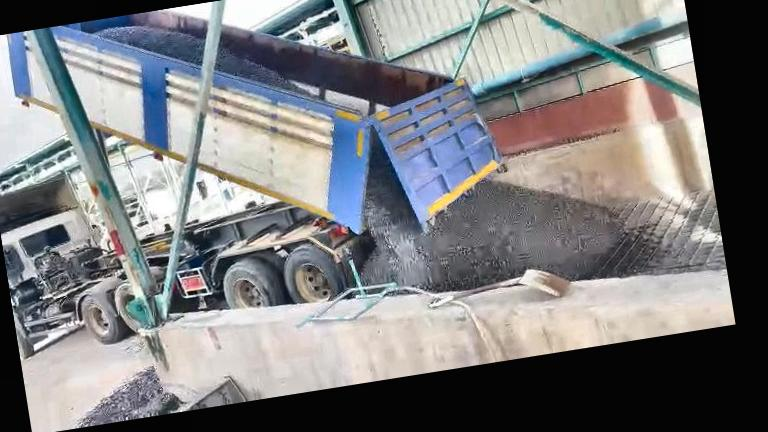gravel: (362, 140, 621, 291), (78, 367, 179, 425), (217, 47, 307, 94), (96, 26, 204, 64)
